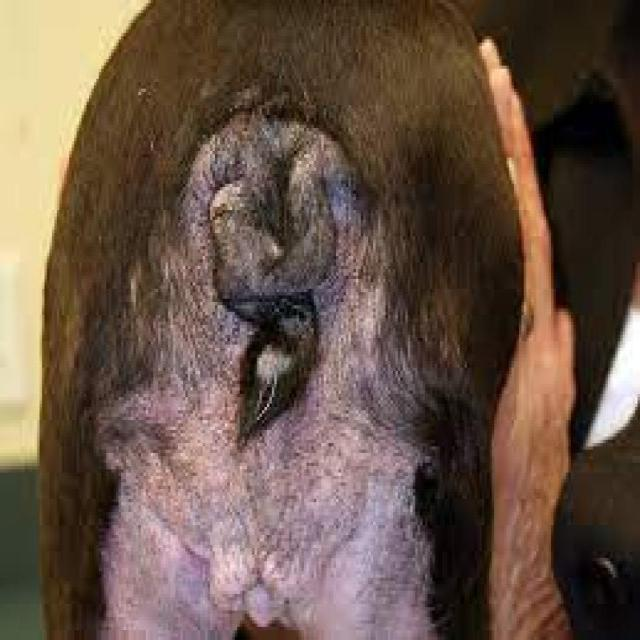allergic dermatitis: (263, 327, 421, 640), (91, 360, 258, 640)
